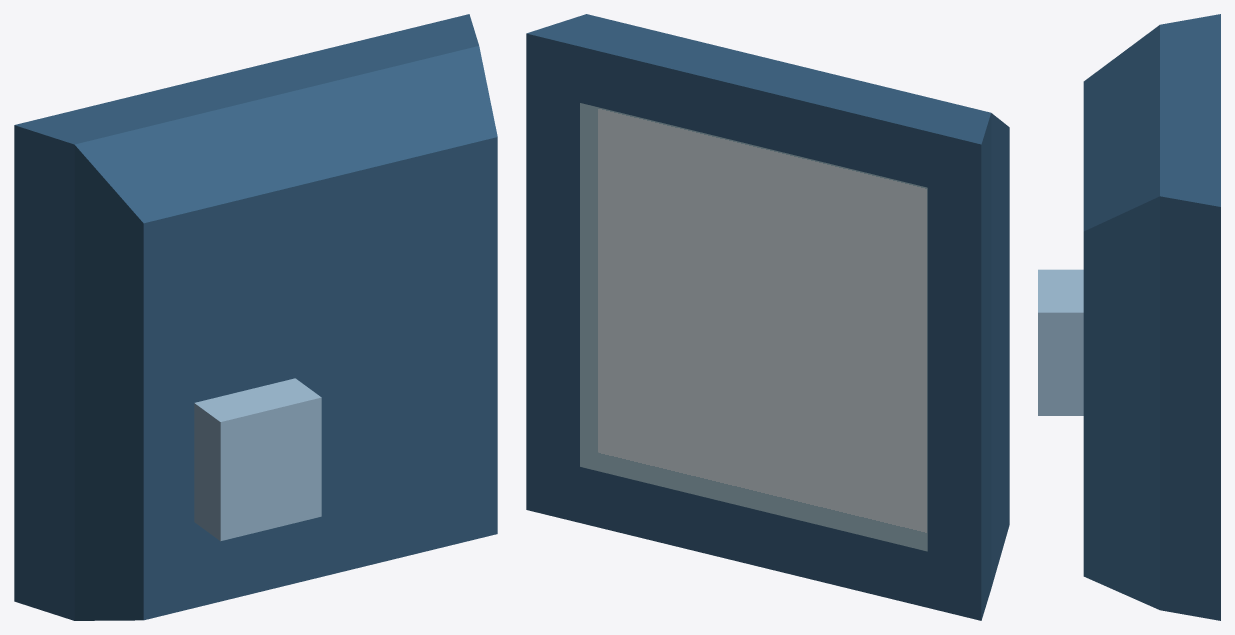
The model's file is JST_Prototype AdScreen.gltf.
The picture shows the model from 3 angles, left to right: view 1: azimuth 30°, elevation 25°; view 2: azimuth 150°, elevation 25°; view 3: azimuth 270°, elevation 25°; orthographic projection. The views are drawn at different scales.
Parts seen in each view (by area): view 1: cuboid; view 2: cuboid; view 3: cuboid.
Boxes of the visible parts, x1=… form: cuboid: x1=14, y1=14, x2=497, y2=620; cuboid: x1=526, y1=14, x2=1009, y2=620; cuboid: x1=1038, y1=14, x2=1220, y2=620.
Bounding box in the file's own units: 0.625 × 0.625 × 0.25.
1 material, 1 textured.
